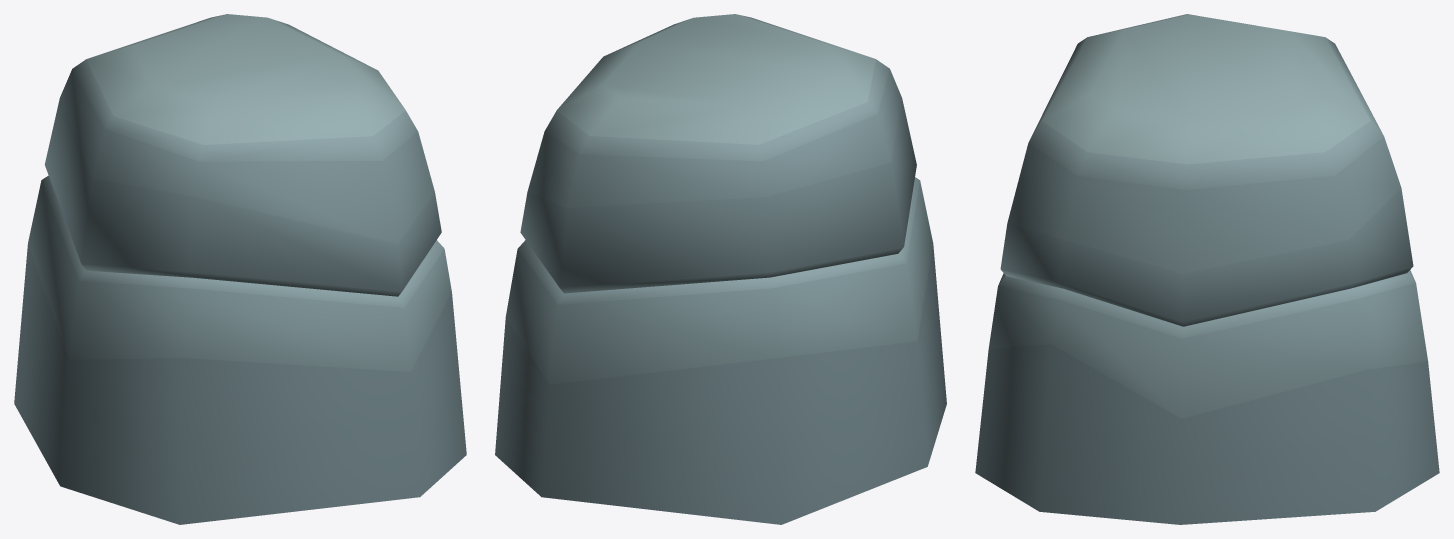
Rendered from rock 03_toon_material_0.001.glb.
3 renders of one model, left to right at view 1: azimuth 30°, elevation 25°; view 2: azimuth 150°, elevation 25°; view 3: azimuth 270°, elevation 25°, orthographic.
Visible parts, largest first — view 1: rock 03_toon_material_0.001; view 2: rock 03_toon_material_0.001; view 3: rock 03_toon_material_0.001.
Part boxes in pixels (x1,y1,x2,y2): rock 03_toon_material_0.001: [14, 14, 466, 524]; rock 03_toon_material_0.001: [495, 14, 946, 524]; rock 03_toon_material_0.001: [975, 14, 1439, 524].
Bounding box in the file's own units: 3.31 × 3.25 × 3.61.
1 material, 1 textured.
